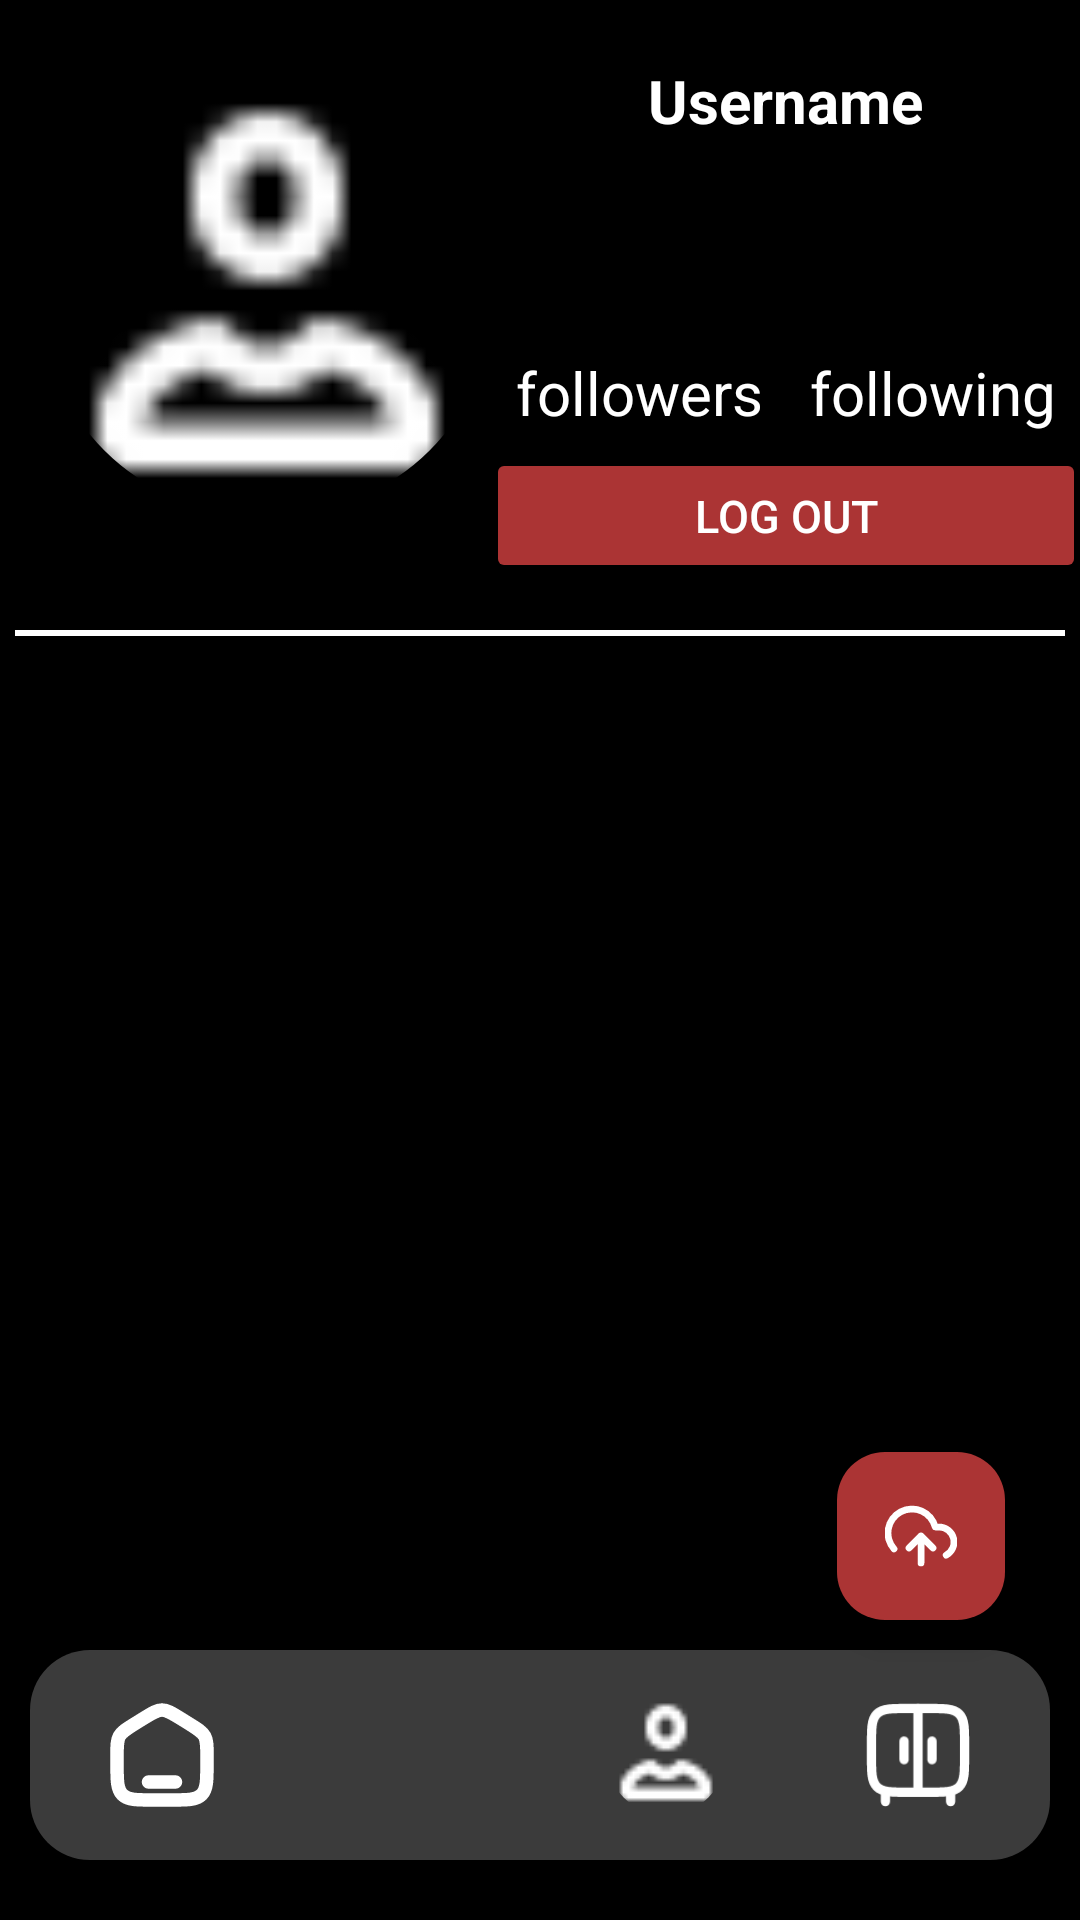

Icons on this 1080 × 1920 Android screen, each with its box as (x1, y1, x2, y2):
closet: (866, 1703, 970, 1807)
home: (110, 1703, 214, 1807)
upload: (837, 1452, 1005, 1620)
